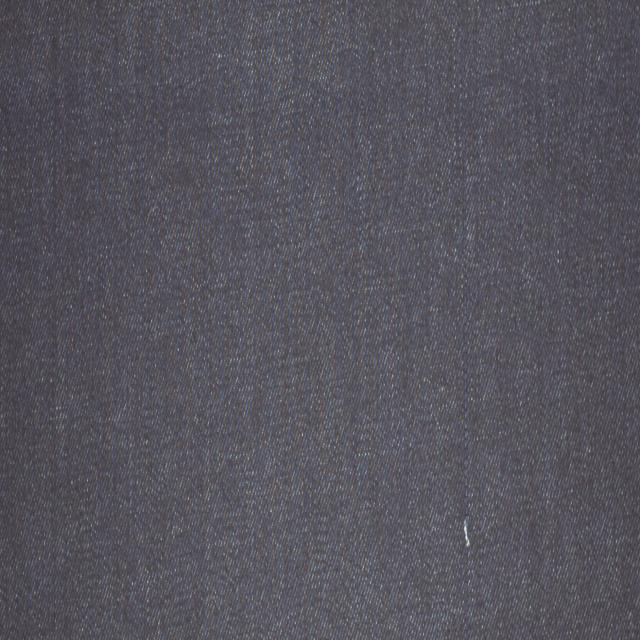Knot: (464, 517, 470, 548)
